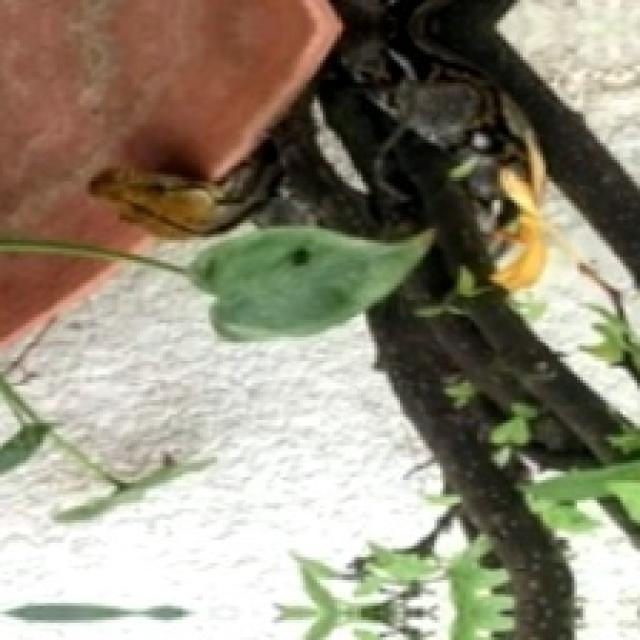reticulated python: (91, 0, 543, 286)
